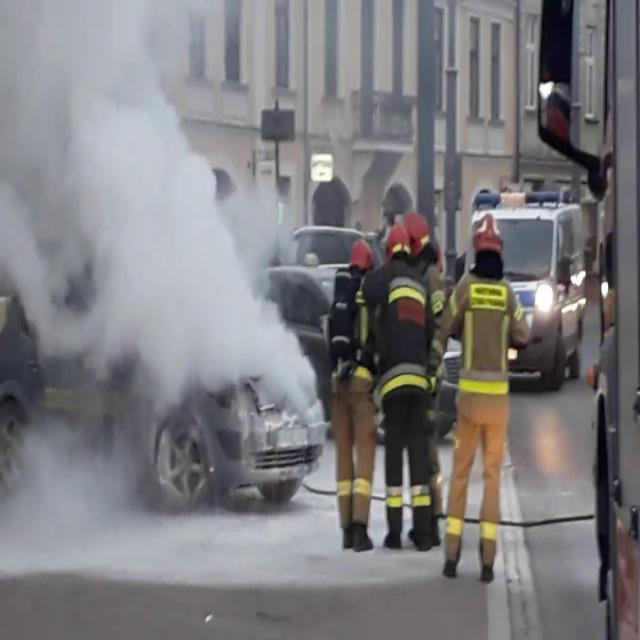Smoke: (0, 0, 315, 421)
